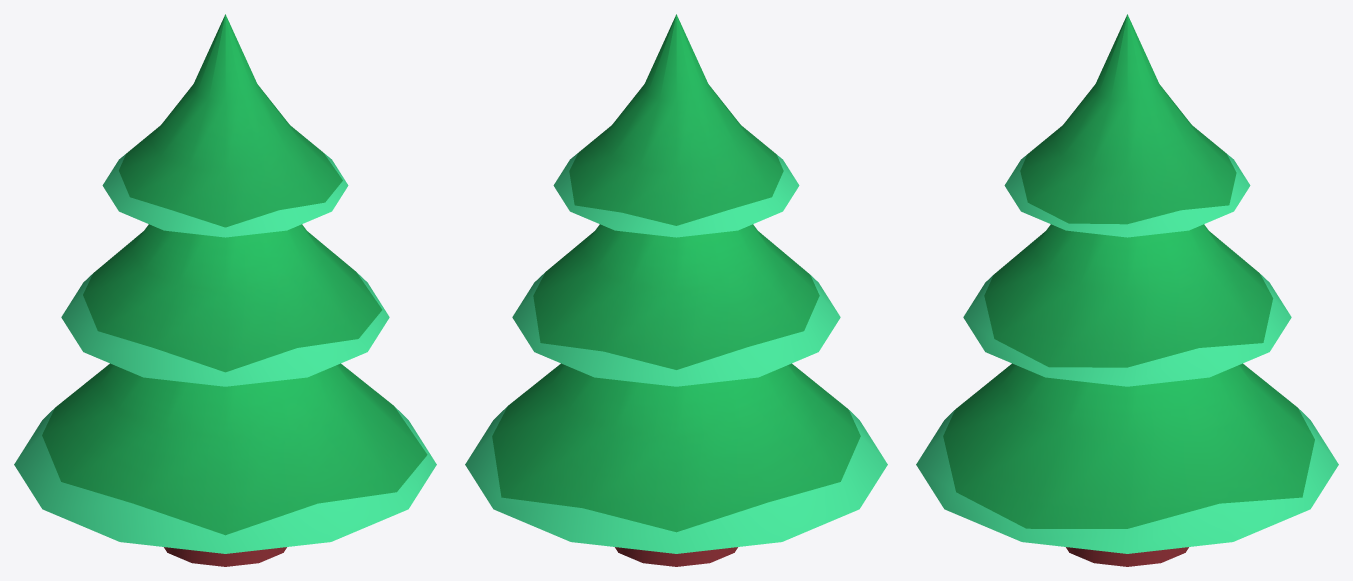
File: Tree.fbx
The picture shows the model from 3 angles, left to right: view 1: azimuth 30°, elevation 25°; view 2: azimuth 150°, elevation 25°; view 3: azimuth 270°, elevation 25°; orthographic projection.
Visible parts, largest first — view 1: Tree; view 2: Tree; view 3: Tree.
Boxes of the visible parts, x1,y1,x2,y2 form: Tree: (14,14,436,566); Tree: (465,14,887,566); Tree: (916,14,1338,566).
Bounding box in the file's own units: 3.44 × 4.71 × 3.44.
Materials: 1 (1 with a texture image).
